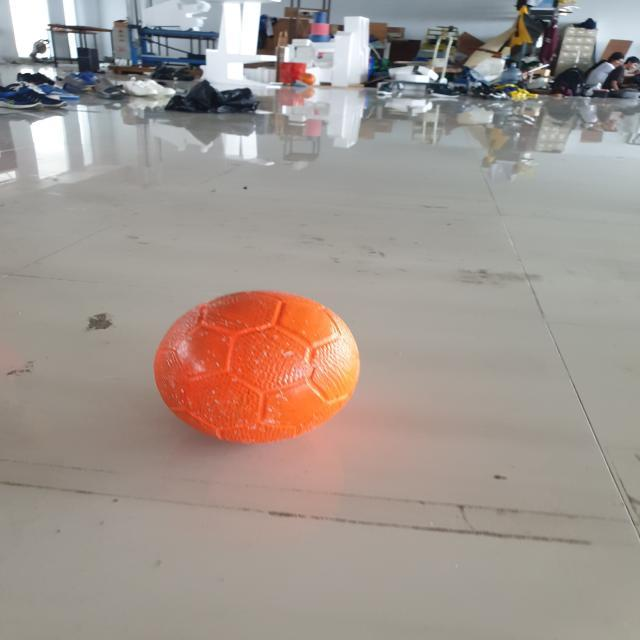bola: (149, 288, 368, 456)
